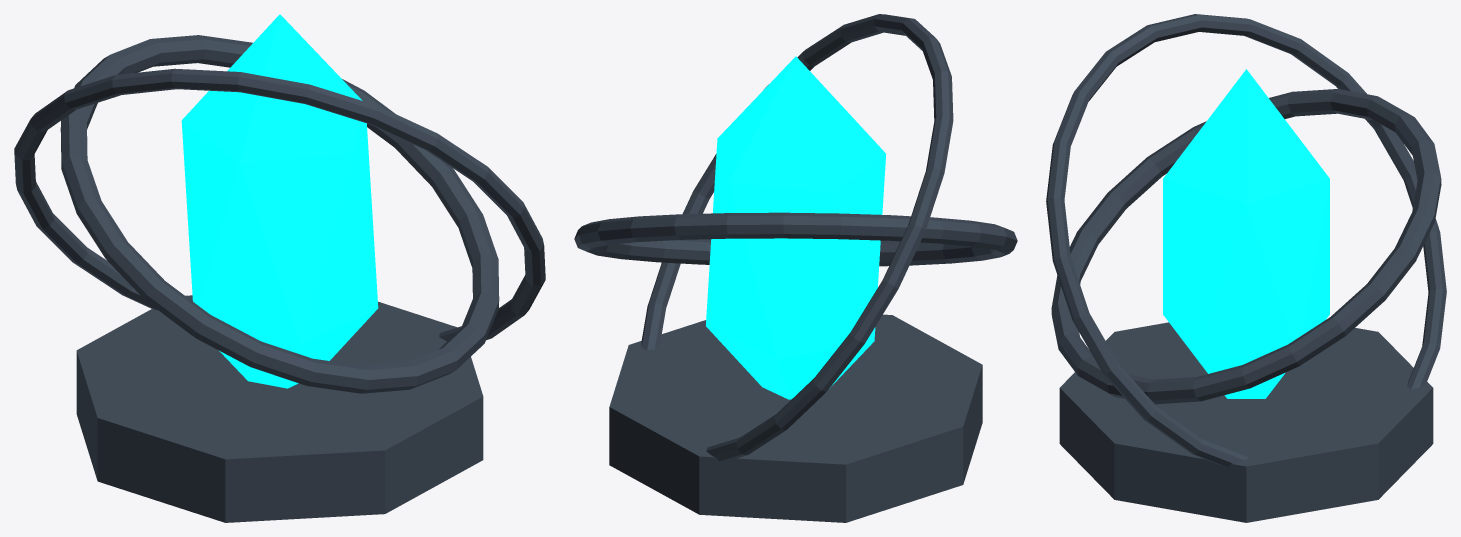
File: scifi_power_crystal.glb
3 renders of one model, left to right at view 1: azimuth 30°, elevation 25°; view 2: azimuth 150°, elevation 25°; view 3: azimuth 270°, elevation 25°, orthographic. The views are drawn at different scales.
Parts seen in each view (by area): view 1: Pedestal, PowerCrystal, Ring1, Ring2; view 2: Pedestal, PowerCrystal, Ring1, Ring2; view 3: Pedestal, PowerCrystal, Ring1, Ring2.
Part boxes in pixels (x1=…): Pedestal: x1=76, y1=295, x2=483, y2=522; PowerCrystal: x1=181, y1=14, x2=378, y2=388; Ring1: x1=60, y1=35, x2=499, y2=393; Ring2: x1=14, y1=68, x2=545, y2=341; Pedestal: x1=609, y1=314, x2=982, y2=522; PowerCrystal: x1=706, y1=56, x2=885, y2=399; Ring1: x1=574, y1=212, x2=1017, y2=266; Ring2: x1=641, y1=14, x2=953, y2=461; Pedestal: x1=1059, y1=322, x2=1433, y2=522; PowerCrystal: x1=1163, y1=69, x2=1329, y2=398; Ring1: x1=1051, y1=89, x2=1441, y2=404; Ring2: x1=1046, y1=14, x2=1446, y2=467.
Bounding box in the file's own units: 2.67 × 2.68 × 2.58.
